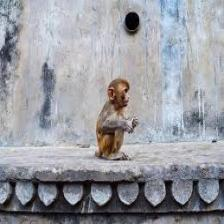monkey: (92, 74, 138, 160)
